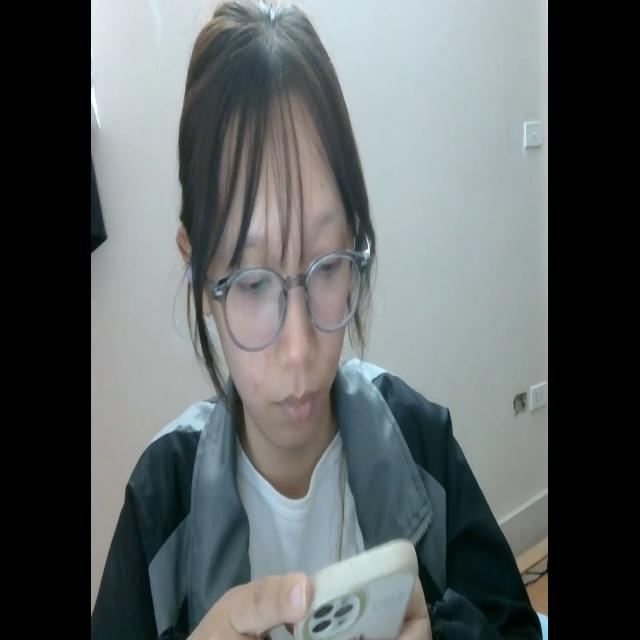phone: (282, 536, 415, 631)
student: (94, 3, 537, 640)
